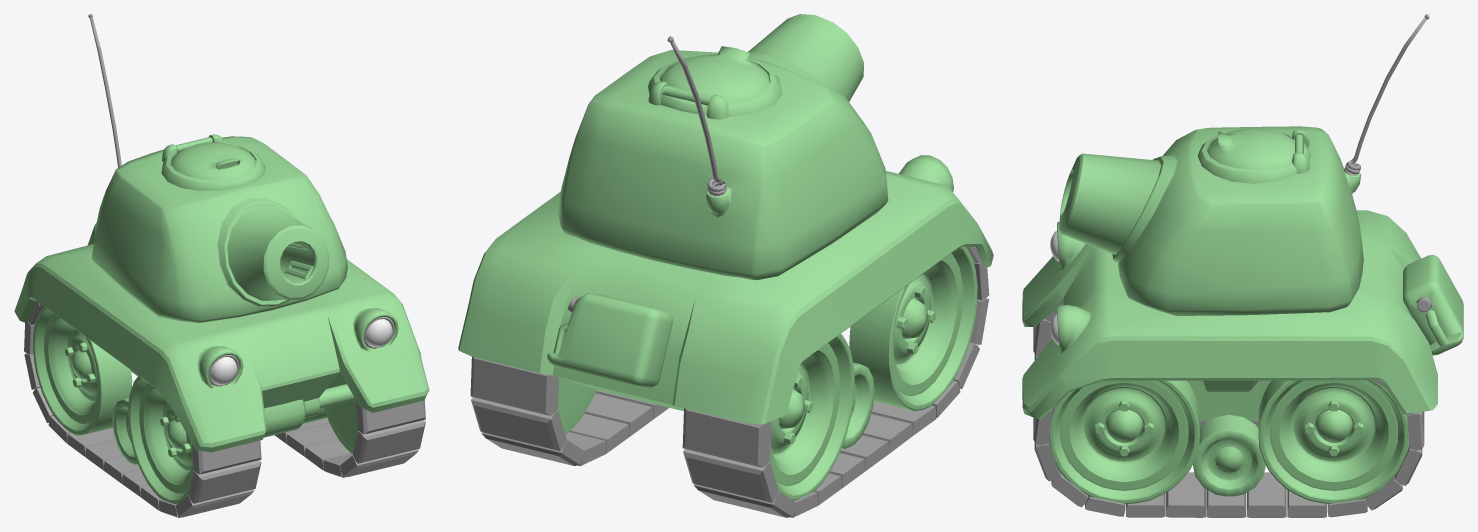
Rendered from Tank.fbx.
3 renders of one model, left to right at view 1: azimuth 30°, elevation 25°; view 2: azimuth 150°, elevation 25°; view 3: azimuth 270°, elevation 25°, orthographic. The views are drawn at different scales.
Visible parts, largest first — view 1: TankChassis, TankTurret, TankTracksRight, TankTracksLeft; view 2: TankChassis, TankTurret, TankTracksRight, TankTracksLeft; view 3: TankChassis, TankTurret, TankTracksLeft, TankTracksRight.
Part boxes in pixels (x1,y1,x2,y2): TankChassis: (14,223,429,464); TankTurret: (88,14,347,322); TankTracksRight: (24,301,261,517); TankTracksLeft: (274,372,425,477); TankChassis: (458,155,993,448); TankTurret: (558,14,888,280); TankTracksRight: (682,246,989,517); TankTracksLeft: (470,356,668,466); TankChassis: (1022,210,1463,496); TankTurret: (1059,14,1429,315); TankTracksLeft: (1033,380,1424,517); TankTracksRight: (1033,302,1258,428).
Bounding box in the file's own units: 1.7 × 2.49 × 2.37.
